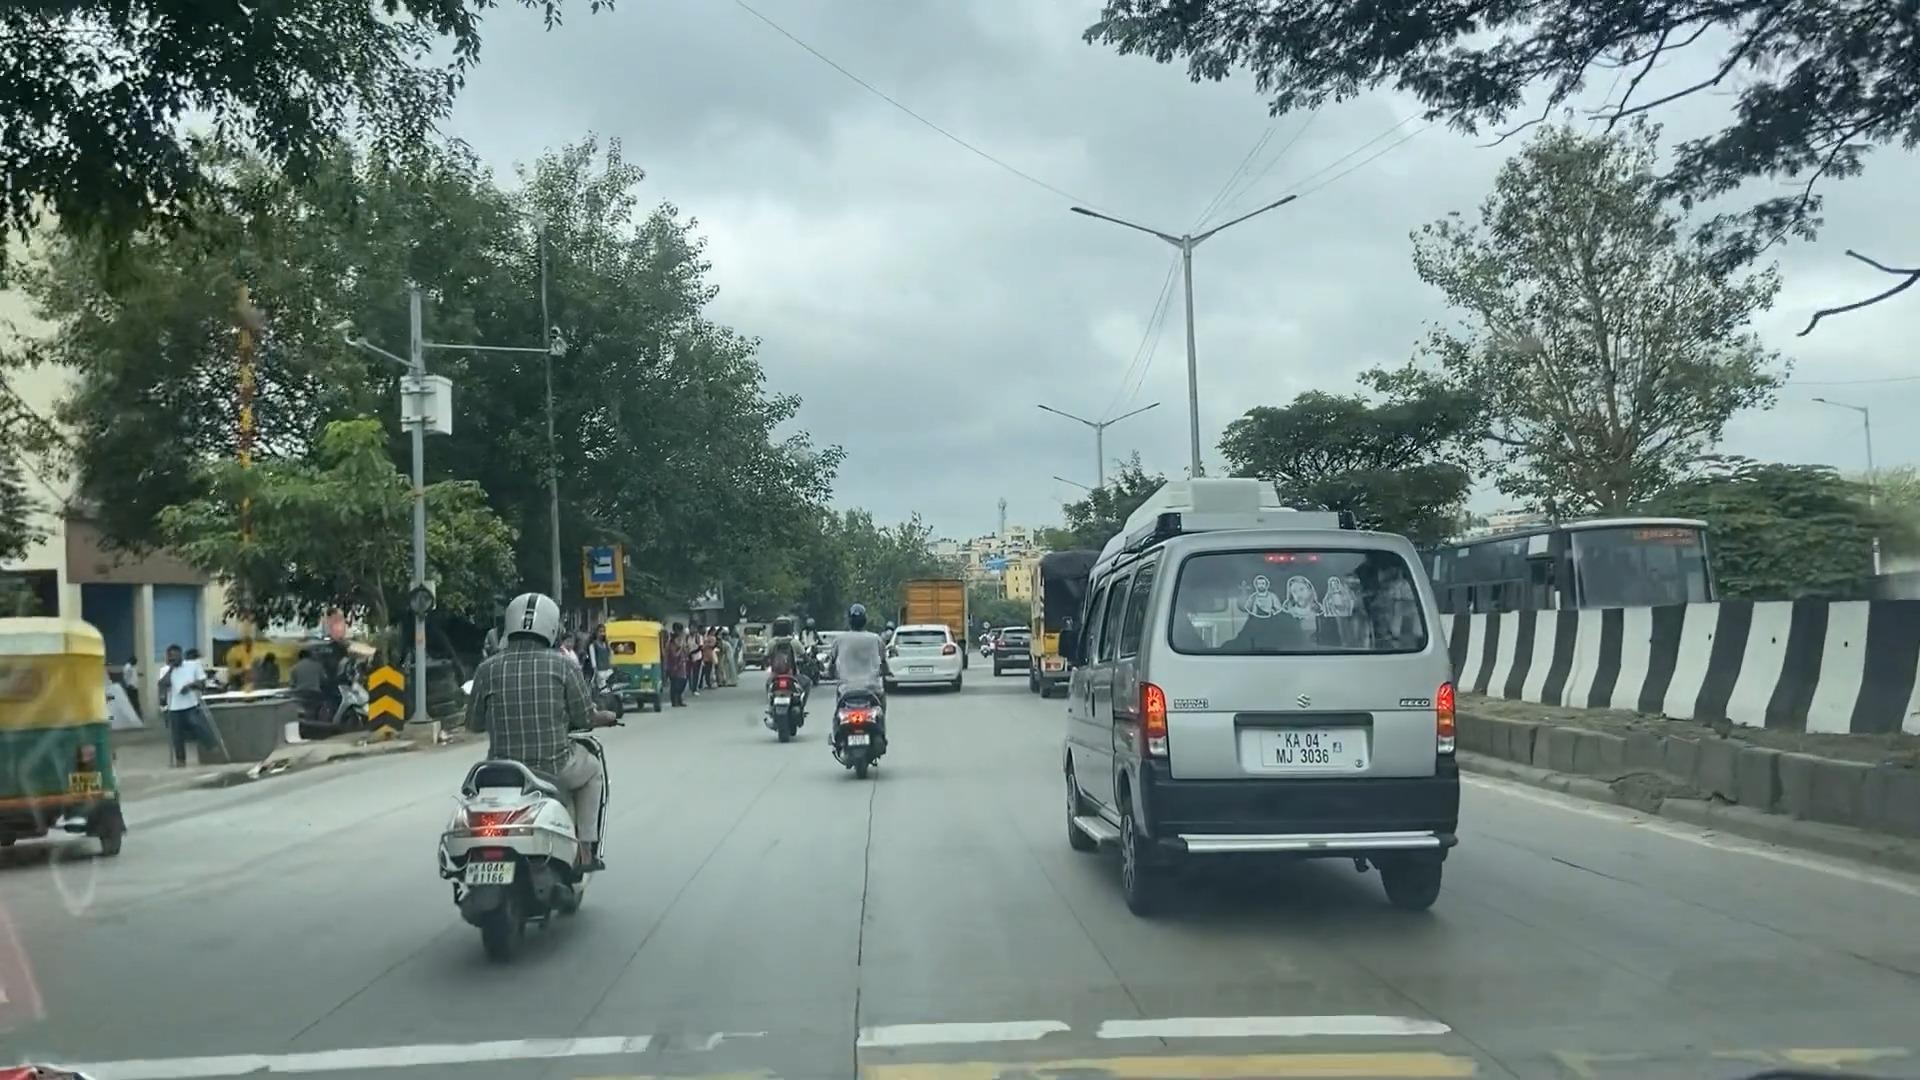LMV: (1046, 510, 1481, 944), (426, 583, 620, 978)
